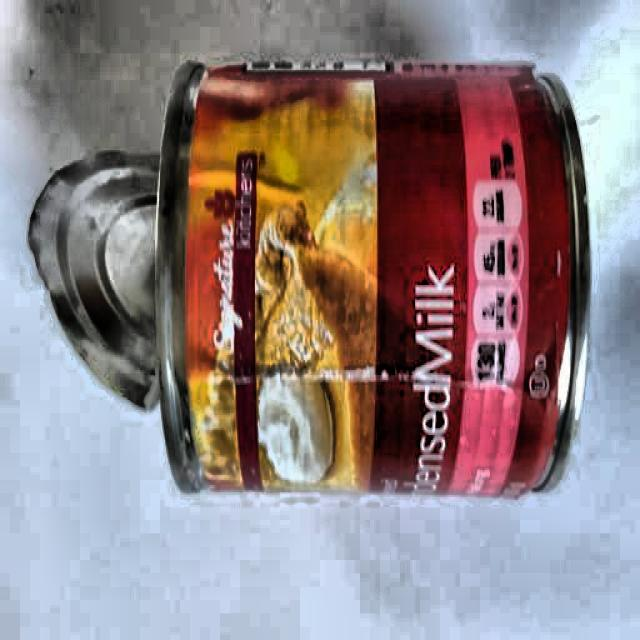metal: (51, 62, 593, 491)
